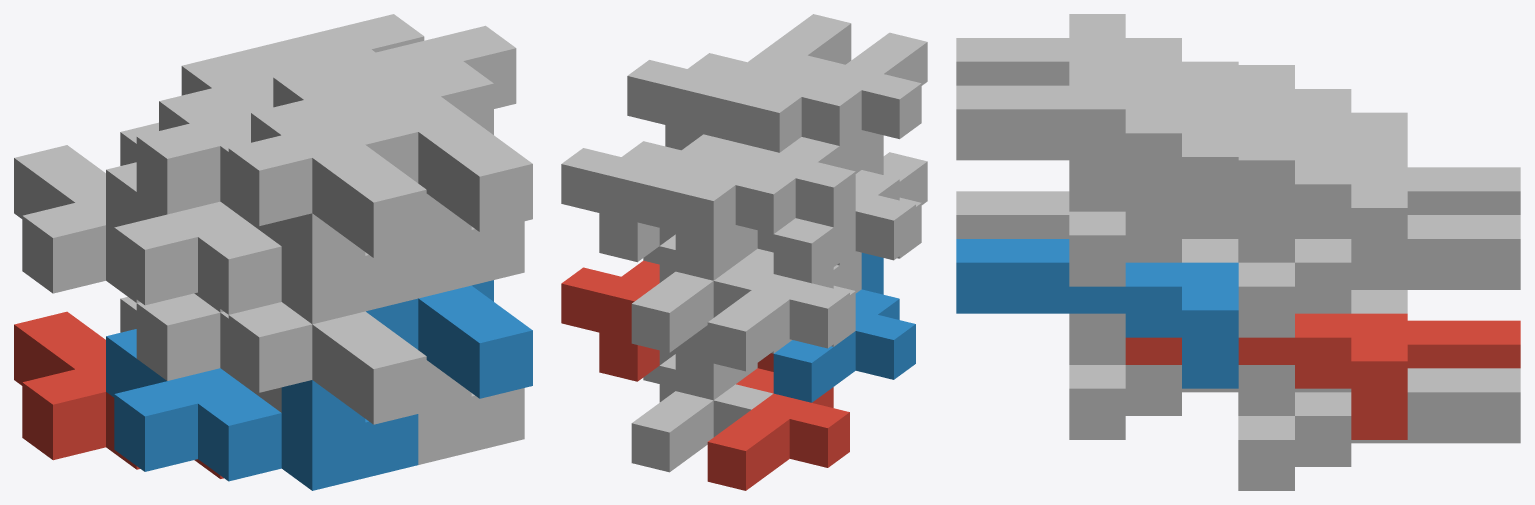
The model's file is tiling.obj.
3 views of the same model, side by side, from view 1: azimuth 30°, elevation 25°; view 2: azimuth 150°, elevation 25°; view 3: azimuth 270°, elevation 25° (orthographic). The views are drawn at different scales.
Visible parts, largest first — view 1: copy_1_domain_2, copy_1_domain_4, copy_2_domain_4, copy_2_domain_8, copy_2_domain_2, copy_2_domain_3, copy_1_domain_1, copy_1_domain_3, copy_2_domain_6, copy_2_domain_1, copy_1_domain_6, copy_1_domain_8 (+2 smaller); view 2: copy_2_domain_3, copy_2_domain_4, copy_2_domain_8, copy_2_domain_7, copy_1_domain_3, copy_1_domain_1, copy_1_domain_4, copy_1_domain_2, copy_1_domain_7, copy_1_domain_5, copy_2_domain_5, copy_2_domain_1 (+2 smaller); view 3: copy_2_domain_8, copy_2_domain_6, copy_1_domain_5, copy_1_domain_7, copy_2_domain_7, copy_2_domain_5, copy_2_domain_4, copy_1_domain_6, copy_1_domain_8, copy_2_domain_3, copy_2_domain_2, copy_1_domain_1 (+2 smaller).
Boxes of the visible parts, <box> form: copy_1_domain_2: <box>106,329,418,490</box>; copy_1_domain_4: <box>106,162,418,324</box>; copy_2_domain_4: <box>228,51,426,257</box>; copy_2_domain_8: <box>335,25,532,231</box>; copy_2_domain_2: <box>228,302,426,424</box>; copy_2_domain_3: <box>136,40,317,245</box>; copy_1_domain_1: <box>14,311,223,478</box>; copy_1_domain_3: <box>14,145,223,312</box>; copy_2_domain_6: <box>366,280,532,398</box>; copy_2_domain_1: <box>136,293,281,412</box>; copy_1_domain_6: <box>418,360,524,464</box>; copy_1_domain_8: <box>418,194,524,298</box>; copy_2_domain_3: <box>637,130,861,280</box>; copy_2_domain_4: <box>703,32,927,152</box>; copy_2_domain_8: <box>627,14,851,150</box>; copy_2_domain_7: <box>561,134,778,262</box>; copy_1_domain_3: <box>707,230,849,371</box>; copy_1_domain_1: <box>707,353,849,490</box>; copy_1_domain_4: <box>773,130,915,283</box>; copy_1_domain_2: <box>773,252,915,402</box>; copy_1_domain_7: <box>631,228,773,352</box>; copy_1_domain_5: <box>631,350,773,472</box>; copy_2_domain_5: <box>561,260,659,381</box>; copy_2_domain_1: <box>673,252,861,400</box>; copy_2_domain_8: <box>956,61,1238,235</box>; copy_2_domain_6: <box>956,239,1238,388</box>; copy_1_domain_5: <box>1238,365,1520,490</box>; copy_1_domain_7: <box>1238,211,1520,337</box>; copy_2_domain_7: <box>1125,112,1407,286</box>; copy_2_domain_5: <box>1125,313,1407,439</box>; copy_2_domain_4: <box>956,14,1238,109</box>; copy_1_domain_6: <box>1069,313,1351,439</box>; copy_1_domain_8: <box>1069,160,1351,286</box>; copy_2_domain_3: <box>1238,65,1407,160</box>; copy_2_domain_2: <box>956,191,1238,262</box>; copy_1_domain_1: <box>1407,320,1520,368</box>.
Size of the model in its own units: 7 by 7 by 10.
